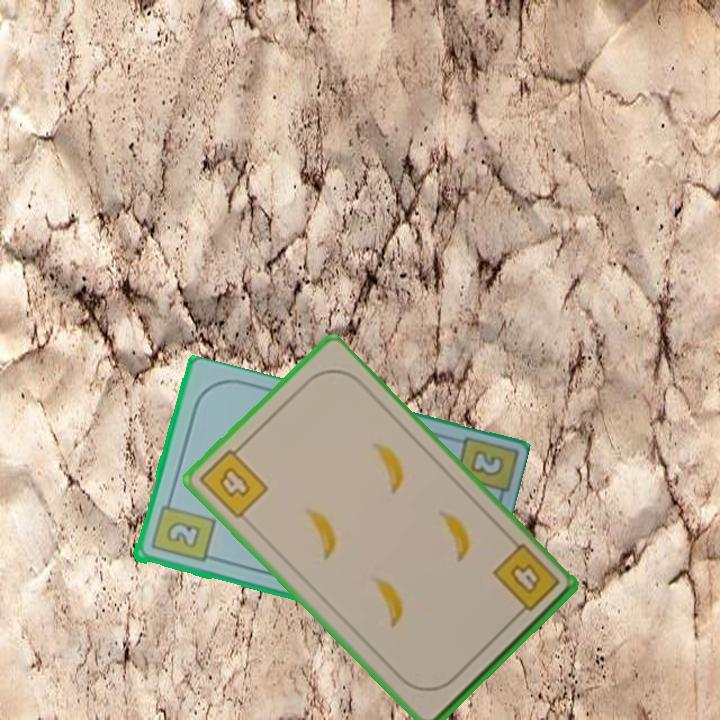2b: (147, 494, 217, 566), (466, 446, 507, 480)
4b: (195, 440, 271, 522), (488, 540, 563, 622)
